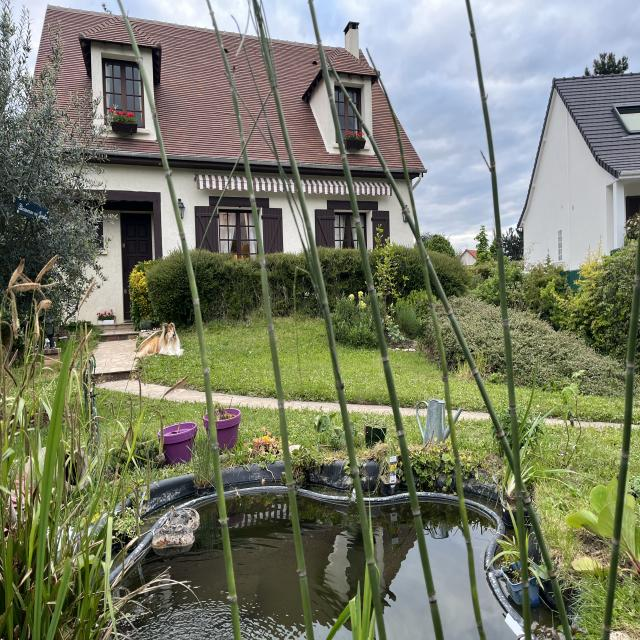Dog: (134, 314, 190, 372)
